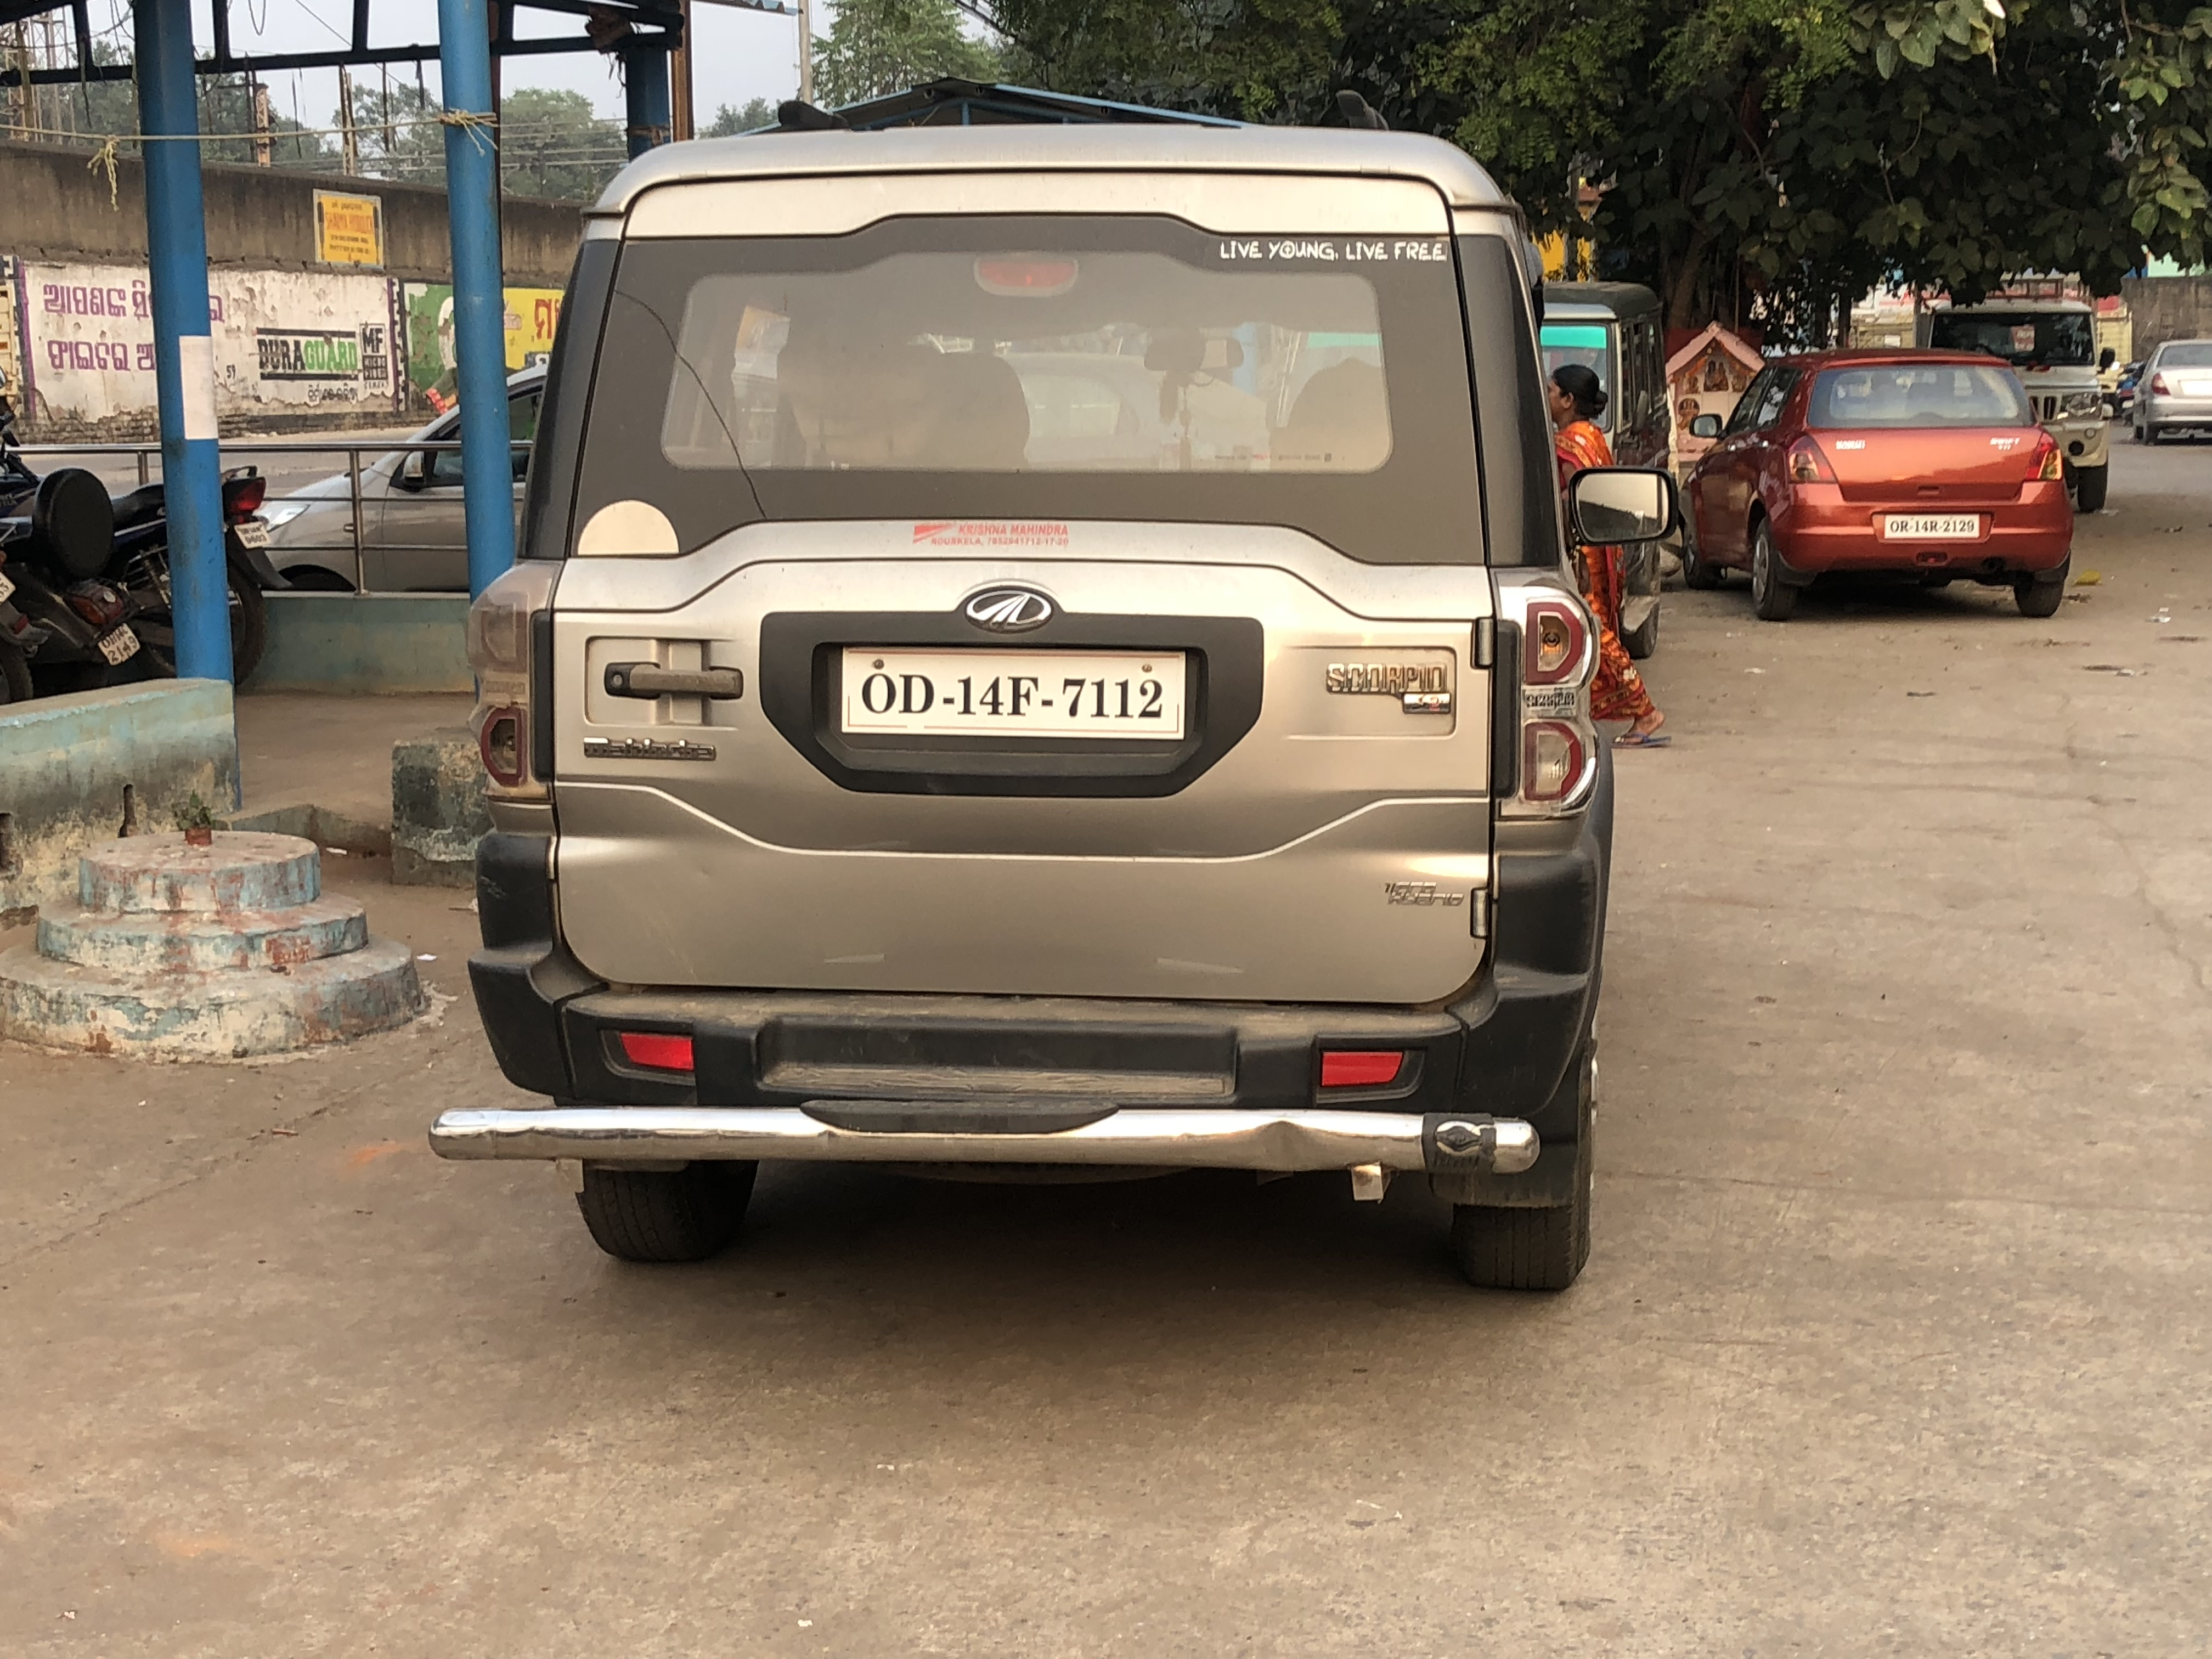licenseplate: (824, 627, 1195, 755)
